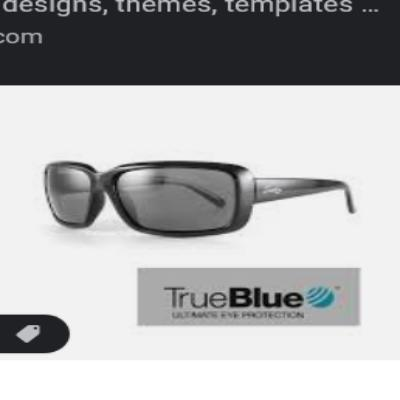glasses: (39, 155, 365, 246)
